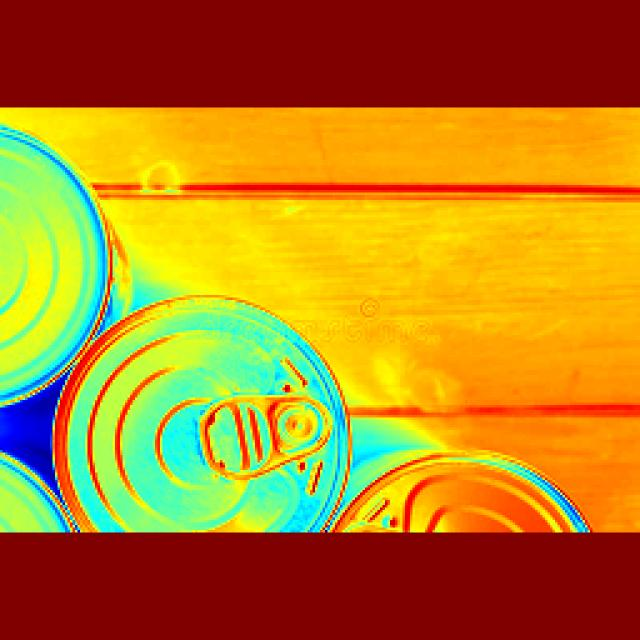Aluminium Food Cans: (59, 288, 338, 552), (337, 416, 580, 563), (0, 127, 117, 368)
